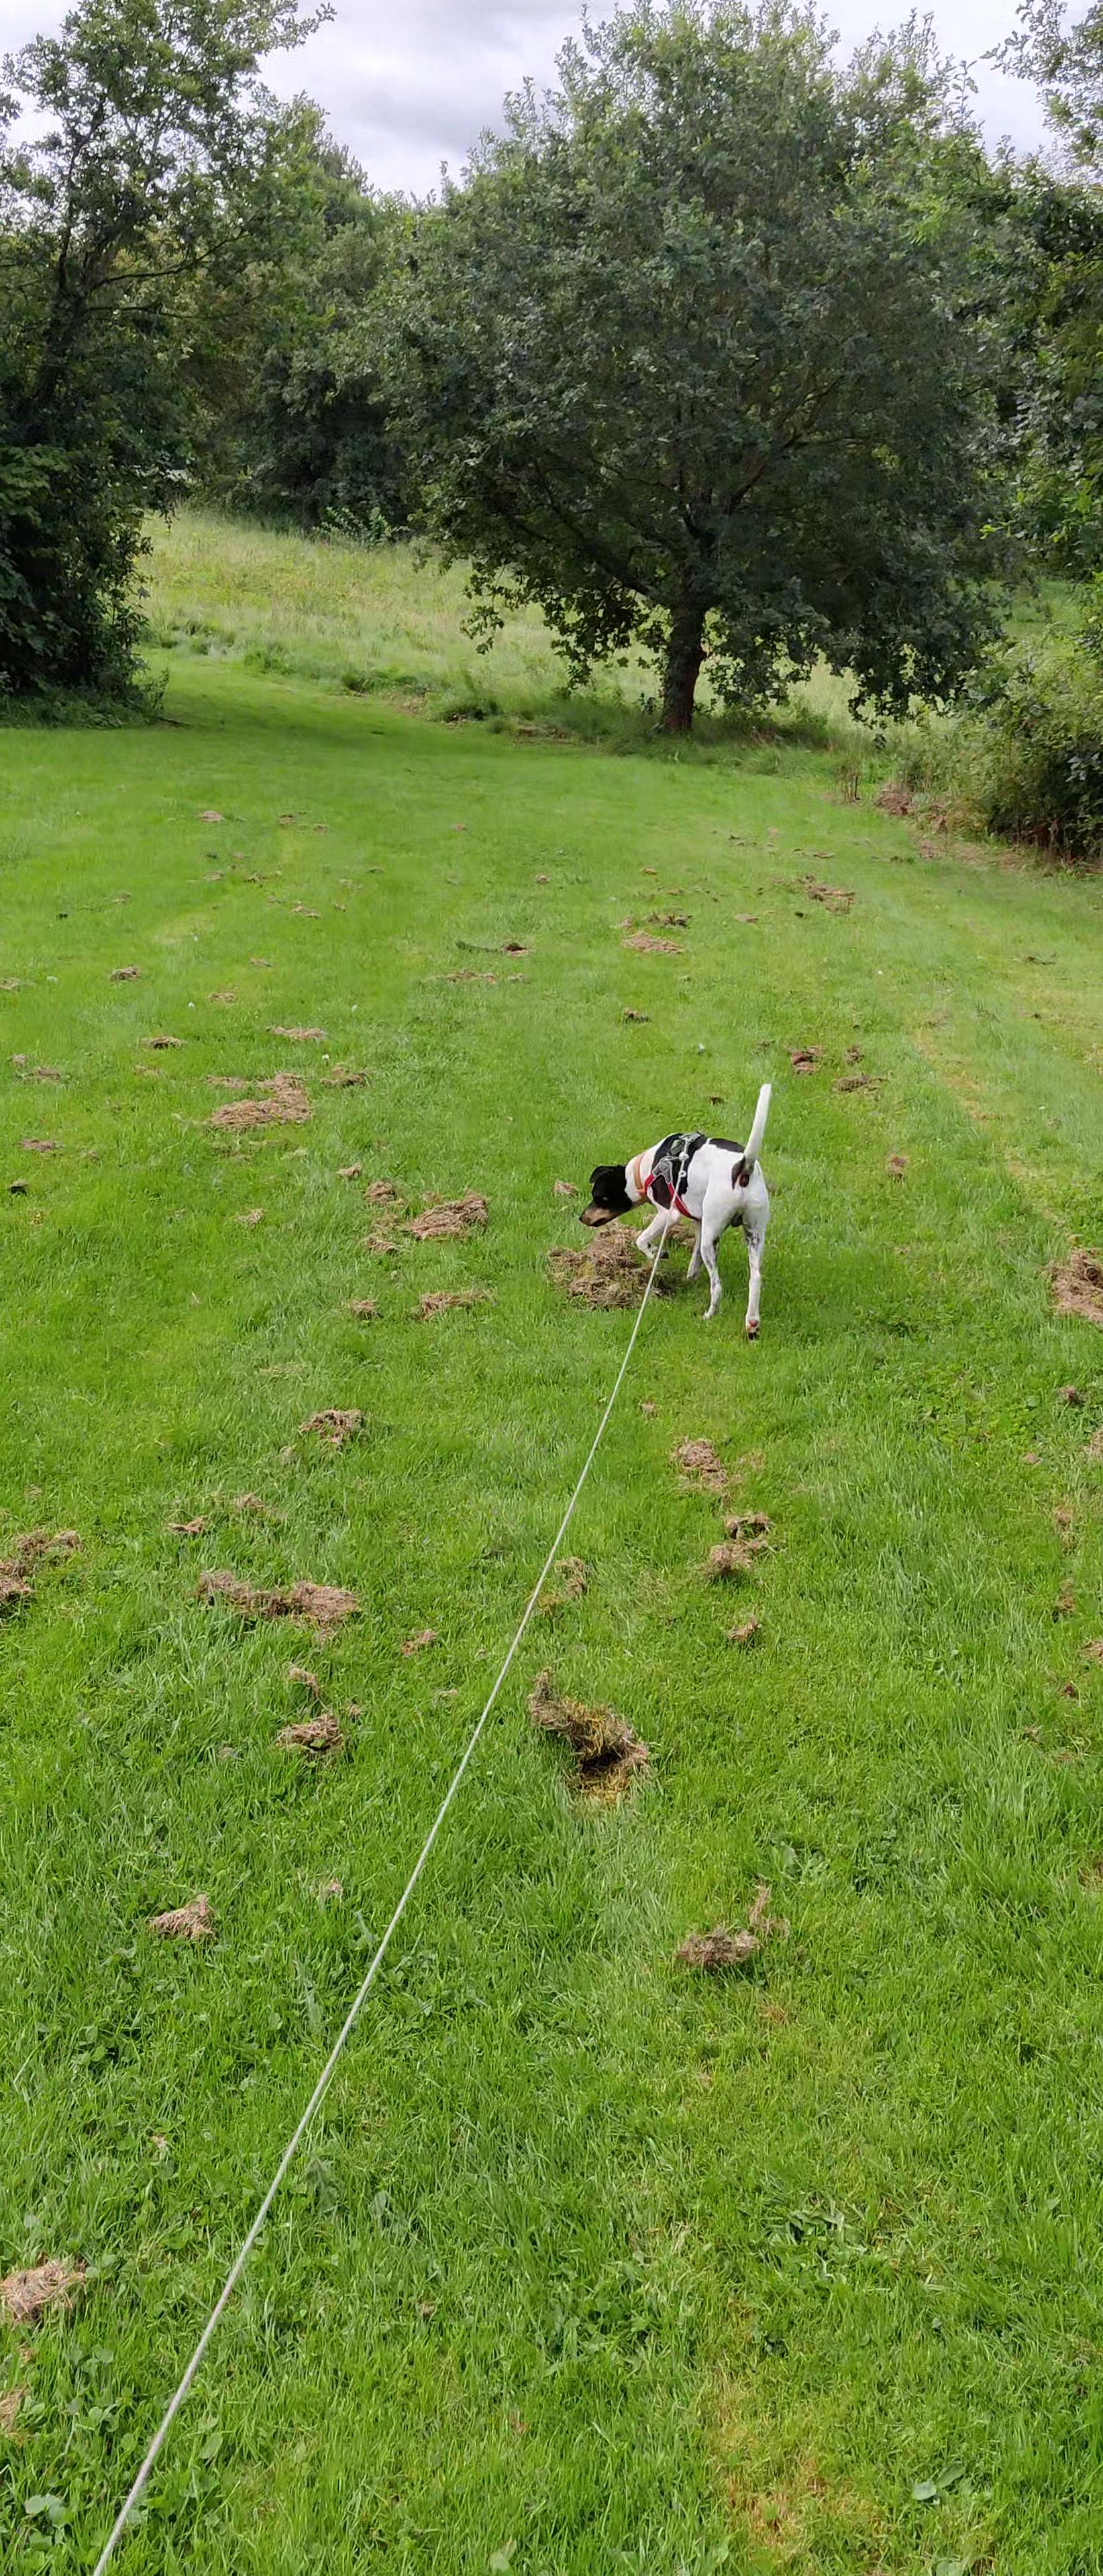Dog: (569, 1050, 804, 1359)
